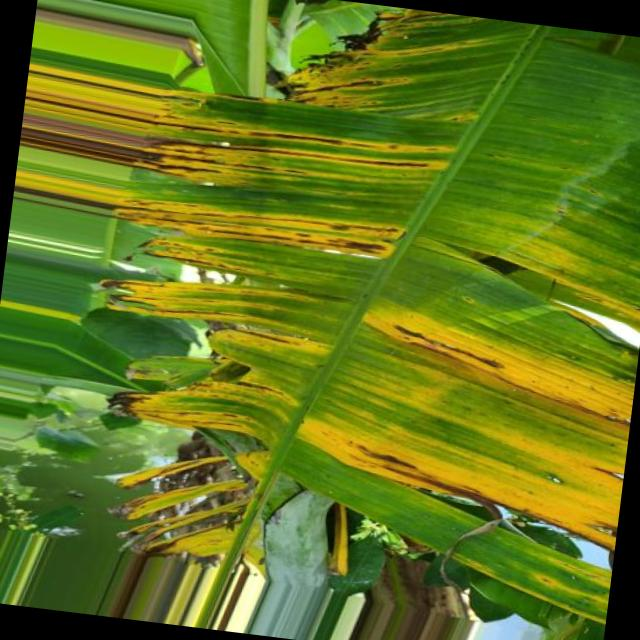Banana_Black_Sigatoka: (62, 0, 404, 592), (352, 230, 640, 554)
